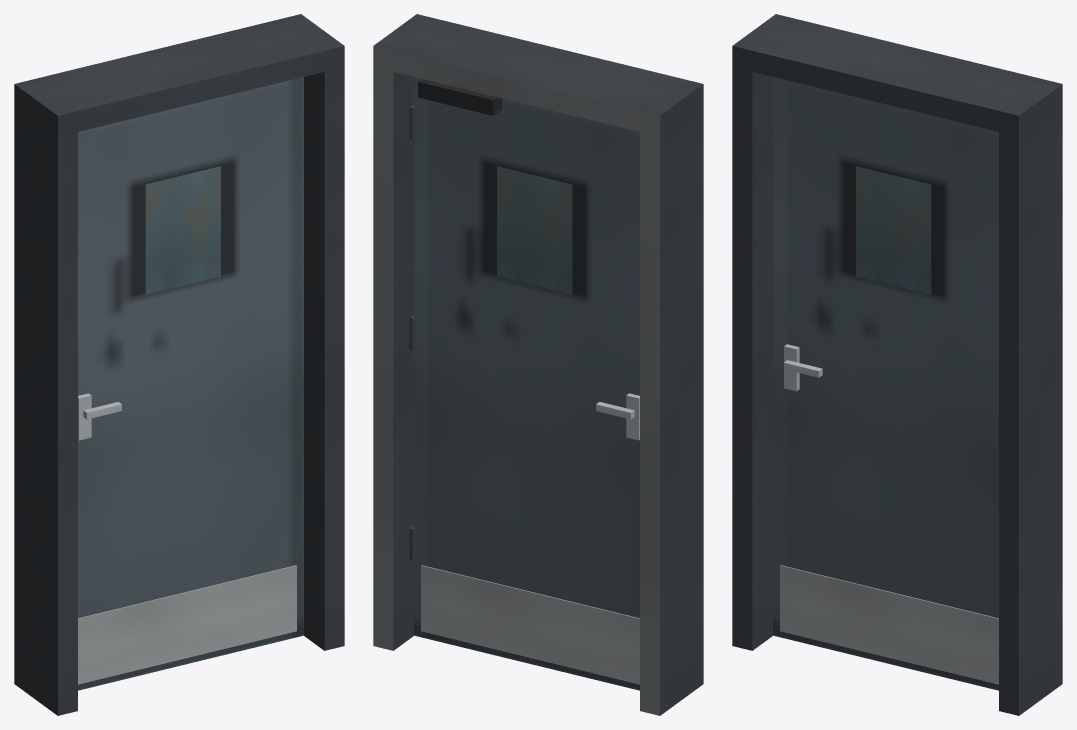
File: door_steel.fbx
3 views of the same model, side by side, from view 1: azimuth 30°, elevation 25°; view 2: azimuth 150°, elevation 25°; view 3: azimuth 330°, elevation 25° (orthographic).
Visible parts, largest first — view 1: door_steel_leaf, door_steel_jamb, door_steel, door_steel_head; view 2: door_steel_leaf, door_steel_jamb, door_steel, door_steel_head; view 3: door_steel_leaf, door_steel, door_steel_jamb, door_steel_head.
Boxes of the visible parts, x1,y1,x2,y2 form: door_steel_leaf: [78, 77, 303, 690]; door_steel_jamb: [14, 79, 77, 715]; door_steel: [281, 14, 344, 650]; door_steel_head: [30, 18, 329, 132]; door_steel_leaf: [409, 77, 639, 690]; door_steel_jamb: [640, 80, 703, 715]; door_steel: [373, 14, 436, 650]; door_steel_head: [388, 18, 687, 132]; door_steel_leaf: [773, 77, 998, 690]; door_steel: [999, 79, 1062, 715]; door_steel_jamb: [732, 14, 794, 650]; door_steel_head: [747, 18, 1046, 131].
Size of the model in its own units: 1.14 by 2.28 by 0.3.
1 material, 1 textured.
